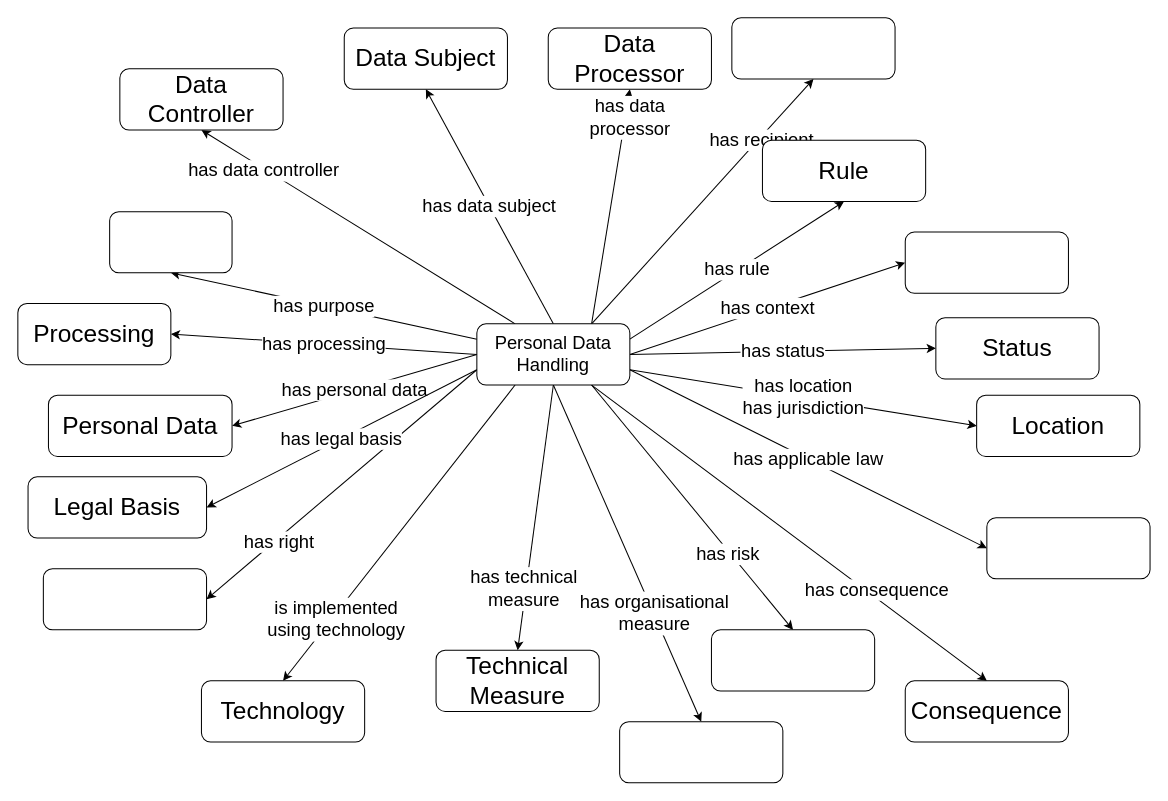
Some shapes in this 1168 by 801 pixel diagram are drawn without their labels. The box of each missing label's shape, as (x1, y1, x2, y2) in pixels:
Context: (904, 231, 1068, 293)
Law: (986, 517, 1150, 579)
Organisational Measure: (619, 721, 783, 783)
Purpose: (109, 211, 232, 273)
Recipient: (731, 17, 895, 79)
Right: (42, 568, 207, 630)
Risk: (710, 629, 875, 691)
